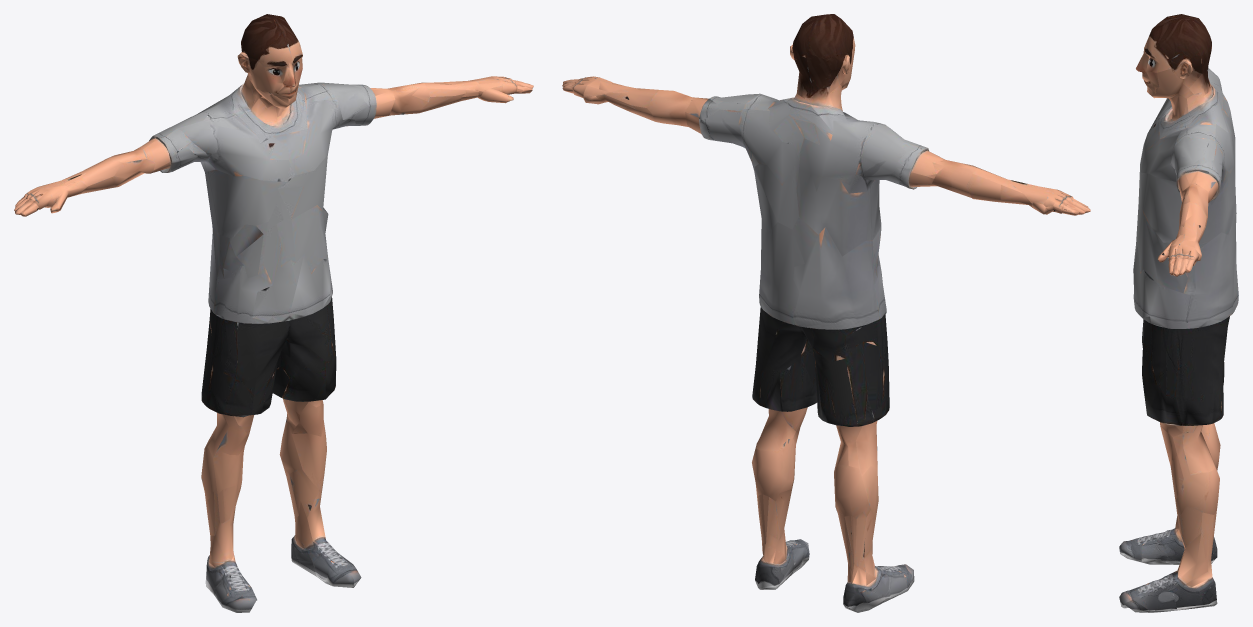
3 renders of one model, left to right at view 1: azimuth 30°, elevation 25°; view 2: azimuth 150°, elevation 25°; view 3: azimuth 270°, elevation 25°, orthographic.
Bounding box in the file's own units: 1.83 × 1.9 × 0.363.
1 material, 1 textured.
